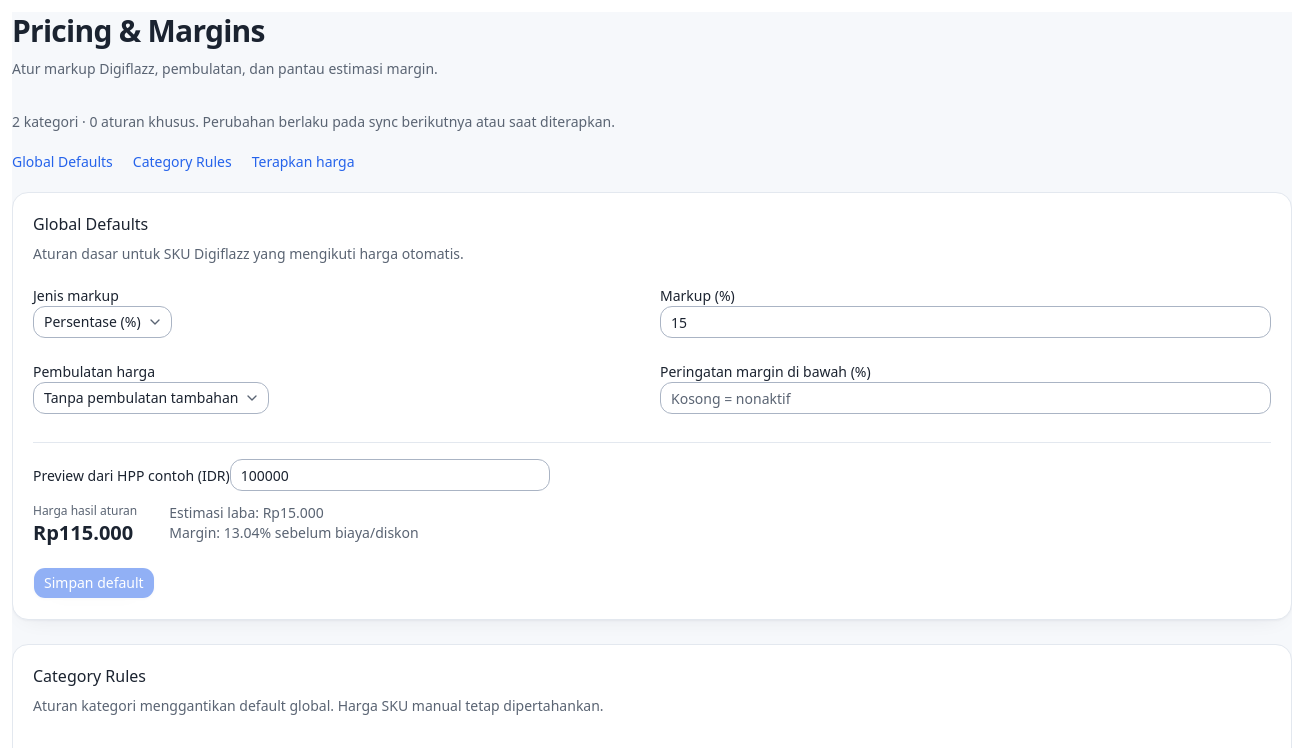
Test: PricingPage › changes percent/flat units and blocks invalid drafts
Expected: the text "Rp115.000" is shown, [33,519,137,547]
Click the dropdown named "Jenis markup": (102, 322) [33,306,172,338]
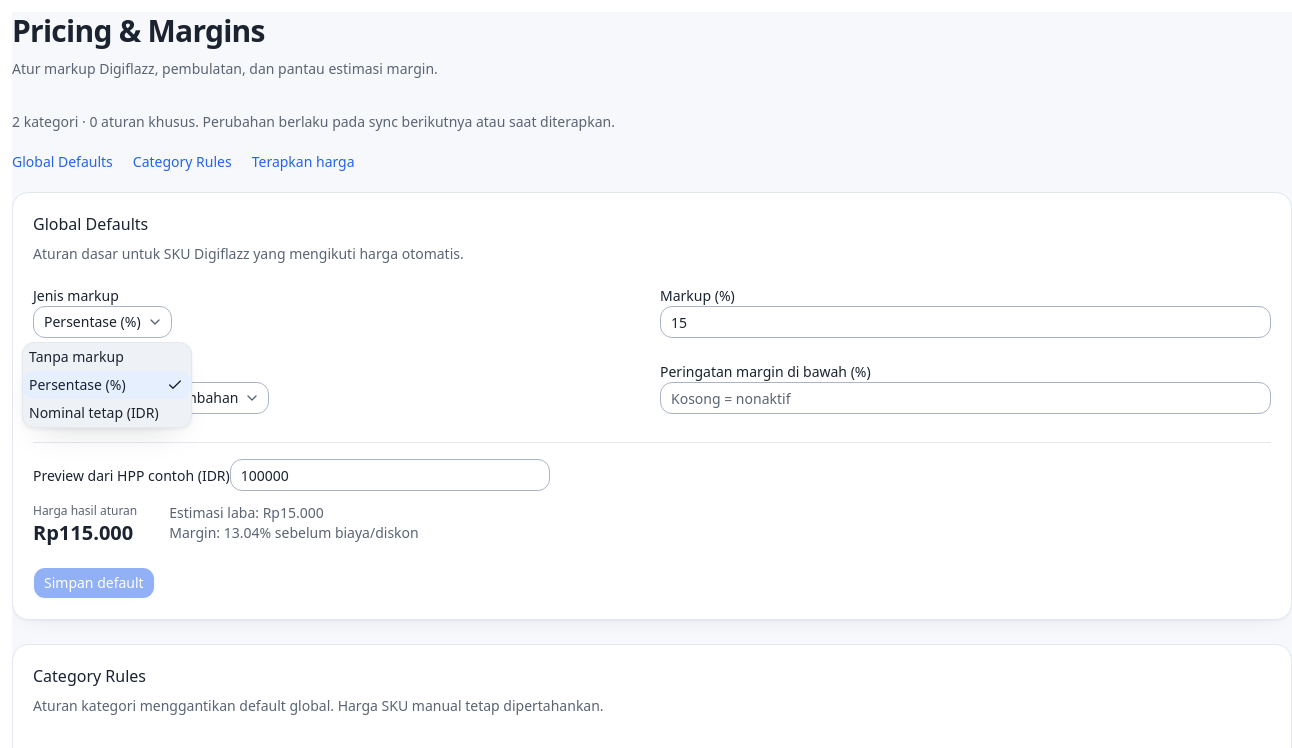
Click the option "Nominal tetap (IDR)": (94, 412) [29,403,159,422]
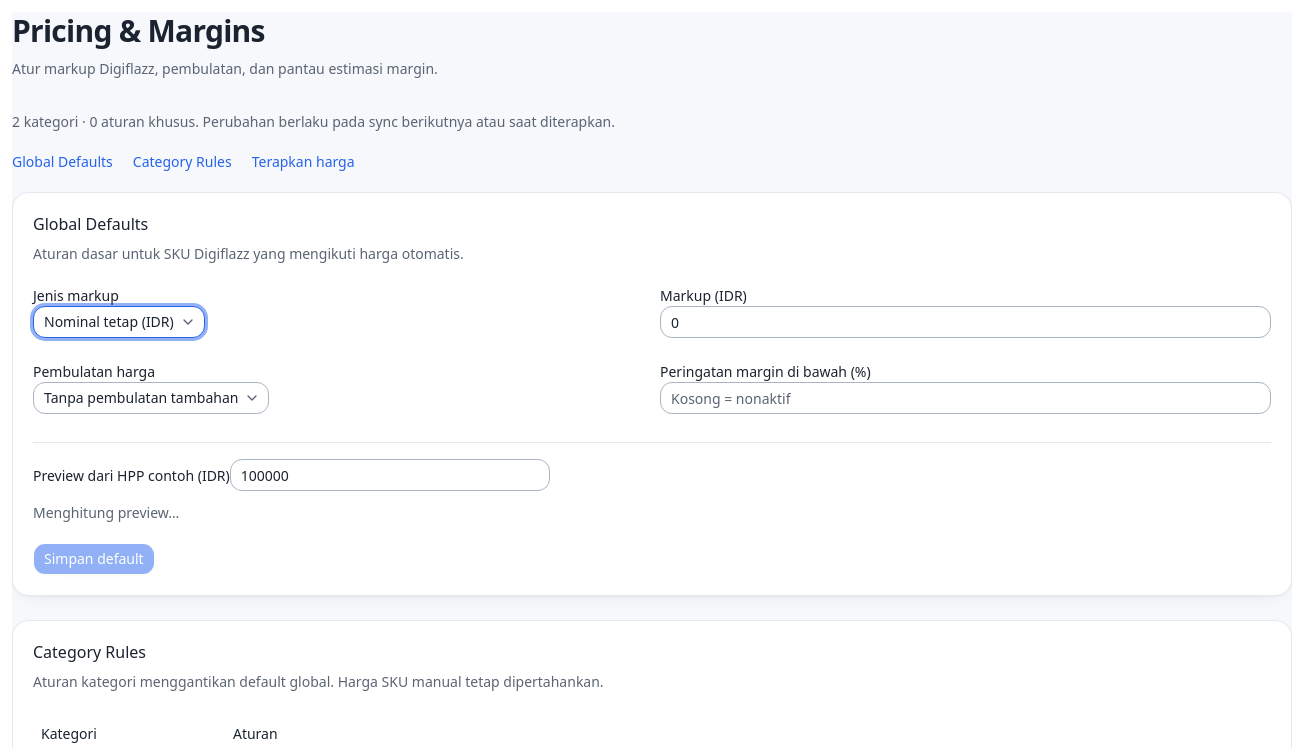
Replace the text in the field labelled "Markup (IDR)" with "bad": (966, 322) [660,306,1271,338]
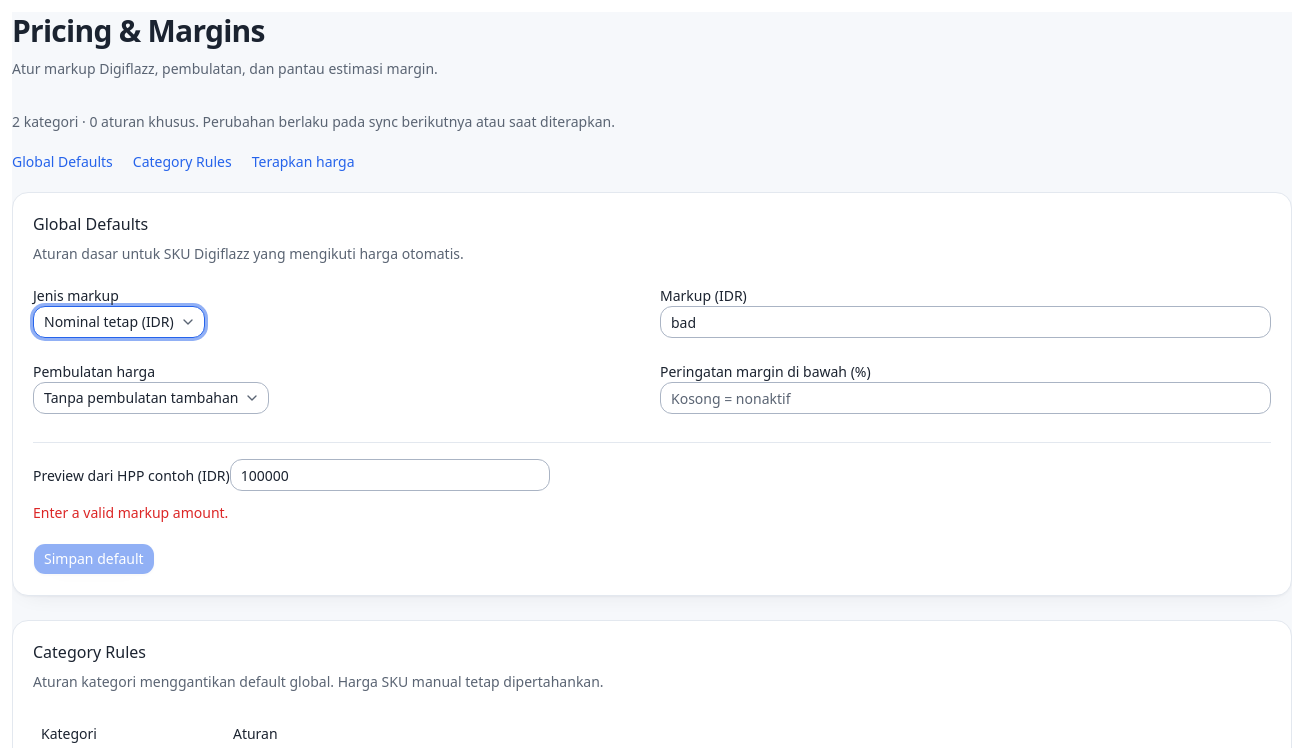
Expected: the button "Simpan default" is disabled, [33,543,155,575]
Expected: the text "Enter a valid markup amount." is shown, [33,503,228,522]
